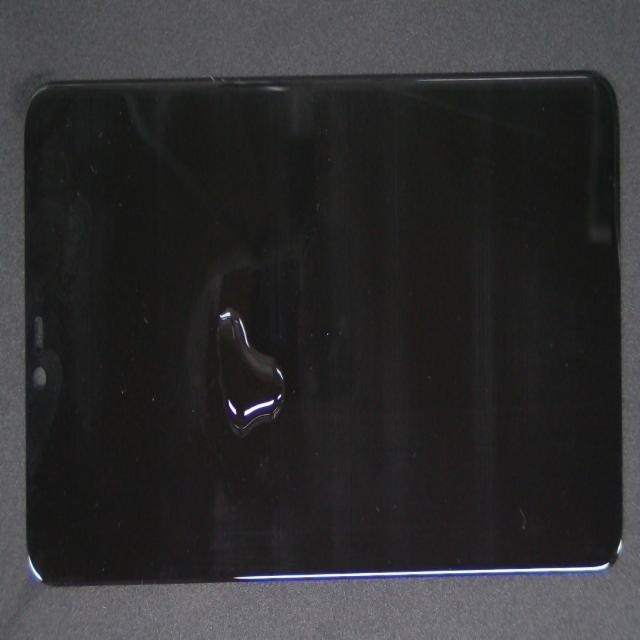oil: (140, 221, 424, 597)
